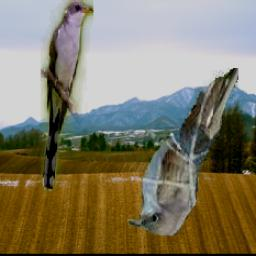Cuckoo: (129, 69, 240, 237), (41, 0, 93, 191)
